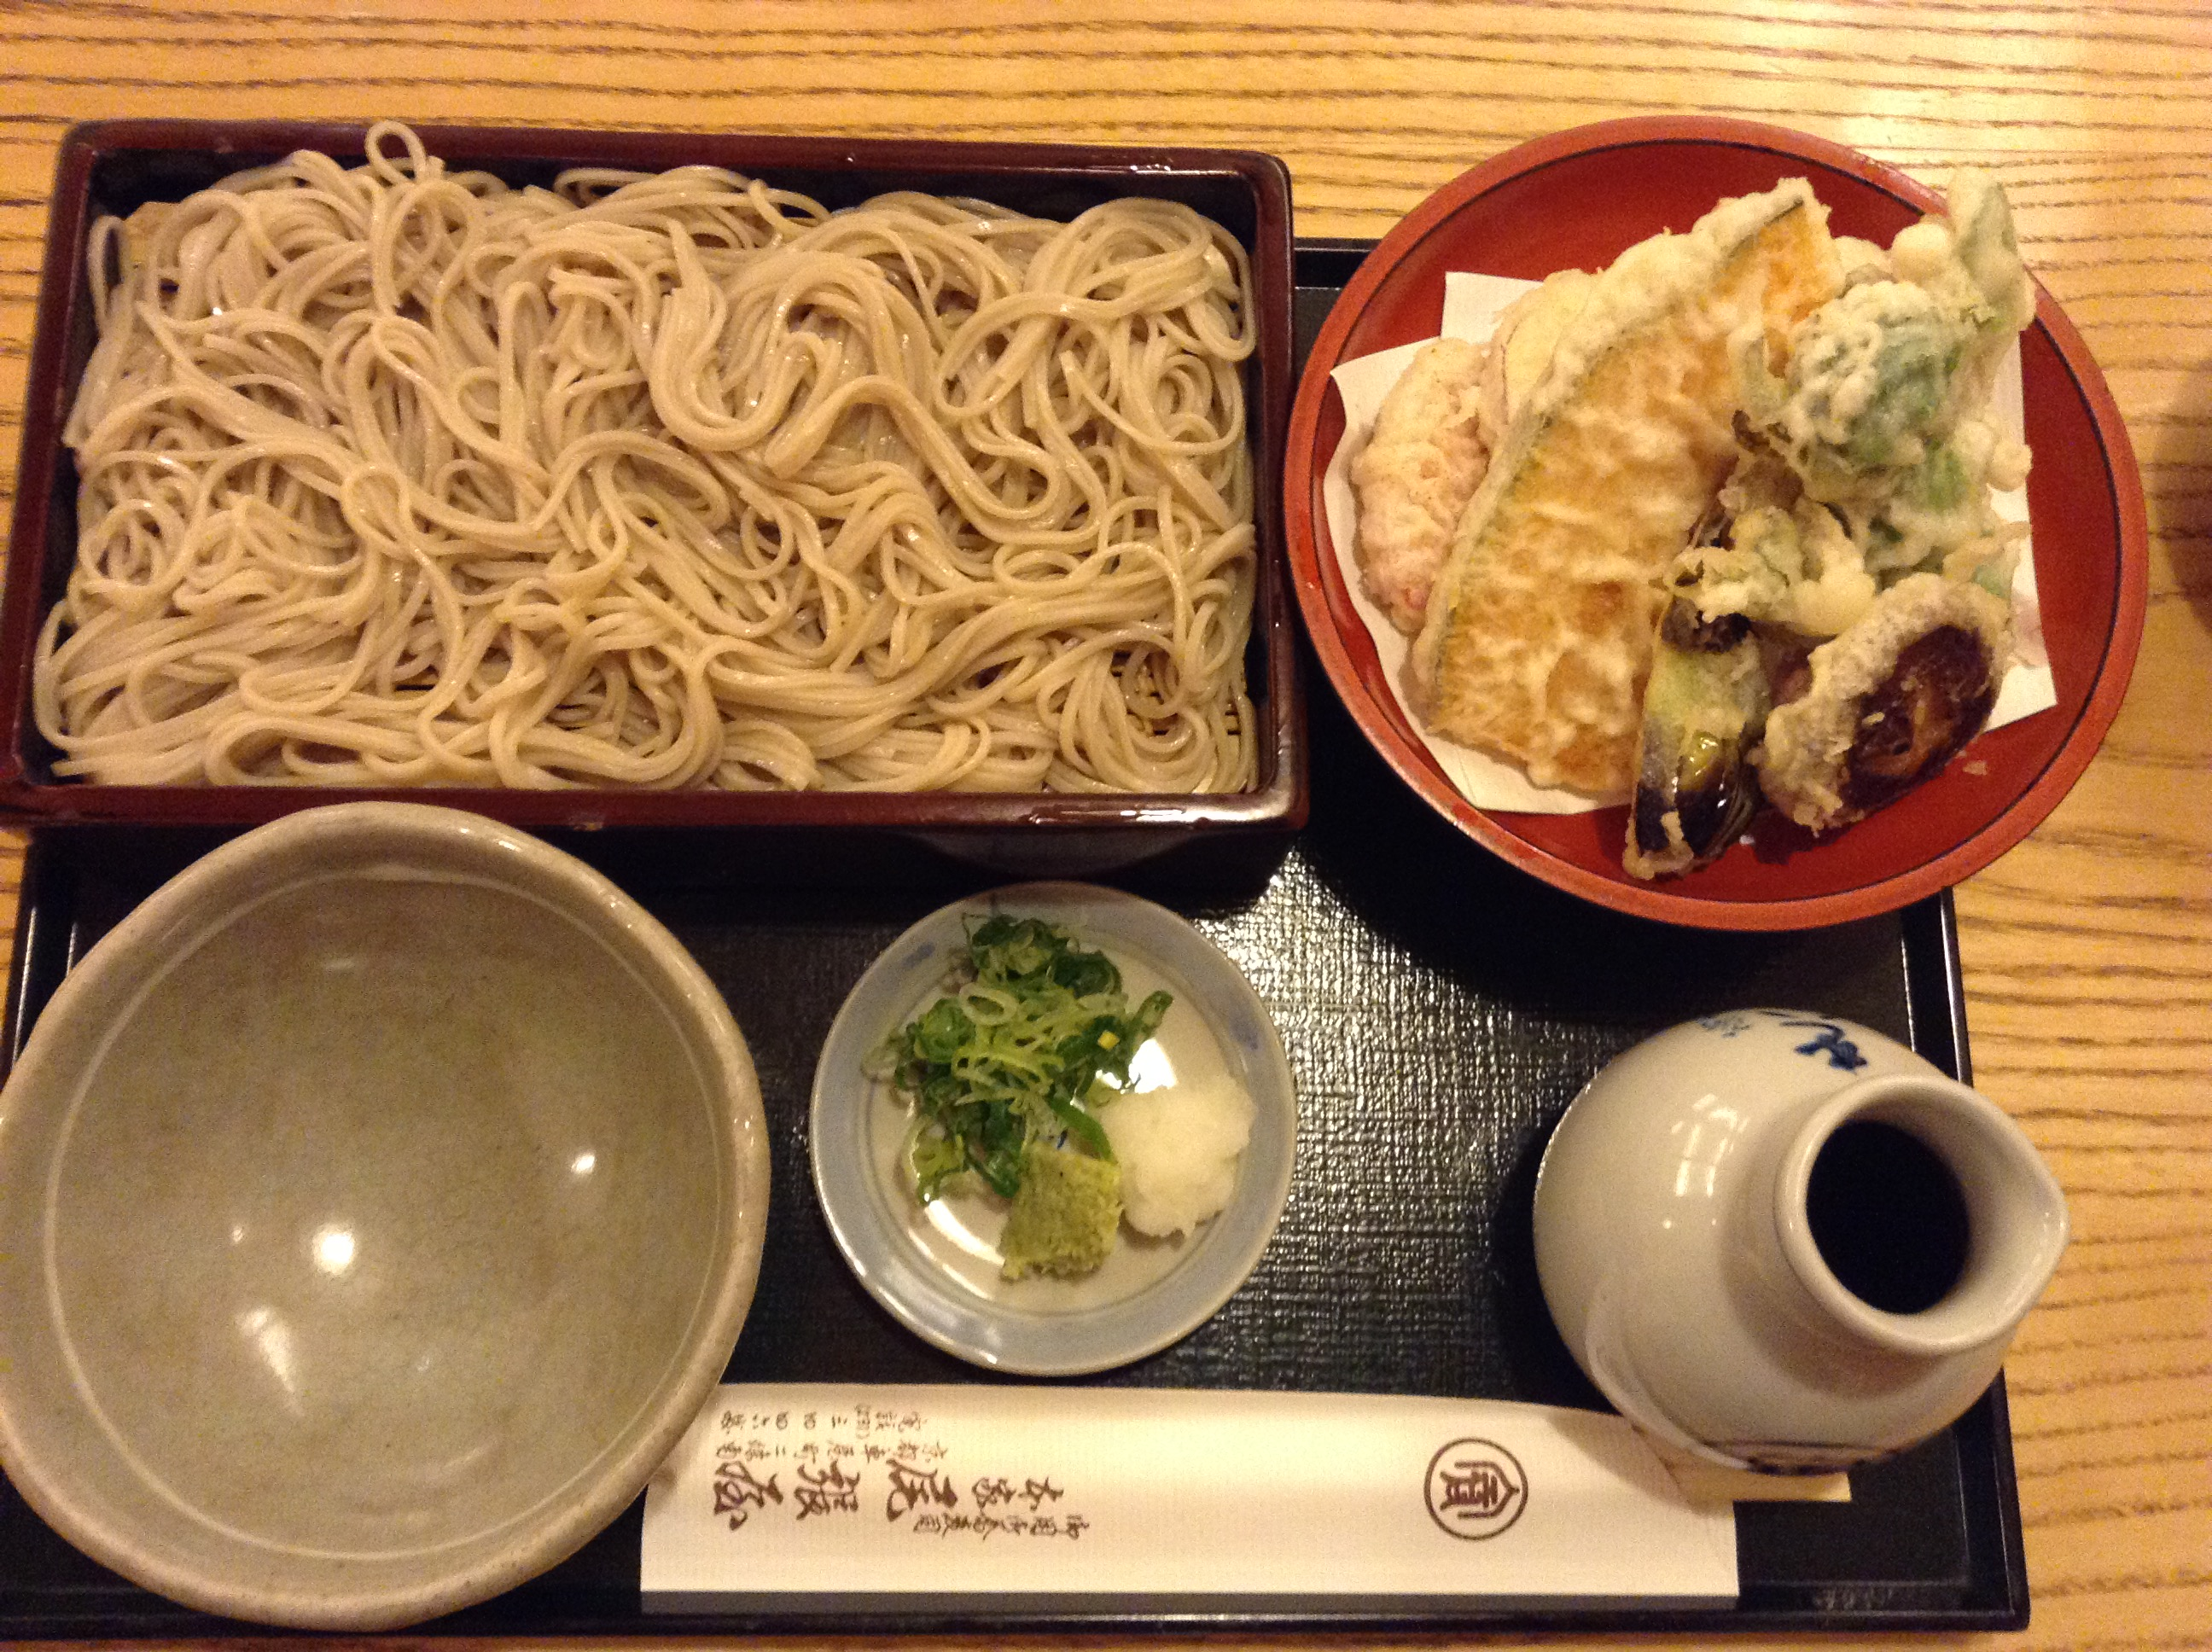Soba: (76, 139, 1275, 826)
